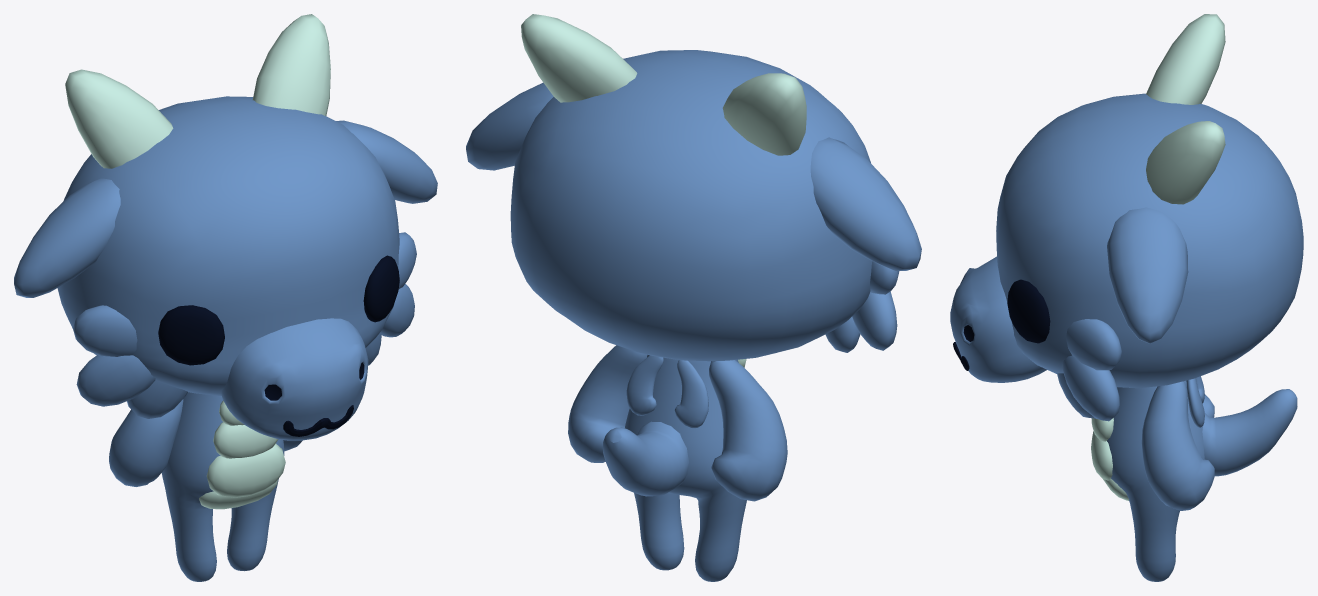
The model's file is Dradra.fbx.
3 renders of one model, left to right at view 1: azimuth 30°, elevation 25°; view 2: azimuth 150°, elevation 25°; view 3: azimuth 270°, elevation 25°, orthographic. The views are drawn at different scales.
Visible parts, largest first — view 1: Dra; view 2: Dra; view 3: Dra.
Part boxes in pixels (box(x1,y1,x2,y2)): Dra: box(14, 14, 437, 581); Dra: box(466, 14, 921, 581); Dra: box(950, 14, 1303, 581).
Bounding box in the file's own units: 152 × 175 × 113.
